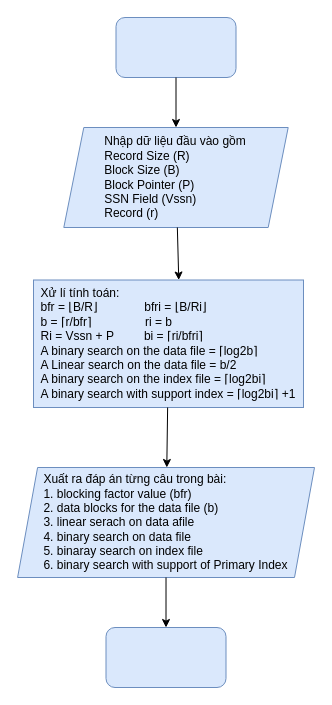
This 332x705 diagram has some shape labels left out. Here are the shapes that lost their labels. From the top down, the centre of each, then its label:
the point at 175,47: Bắt đầu
the point at 165,657: Kết thúc
